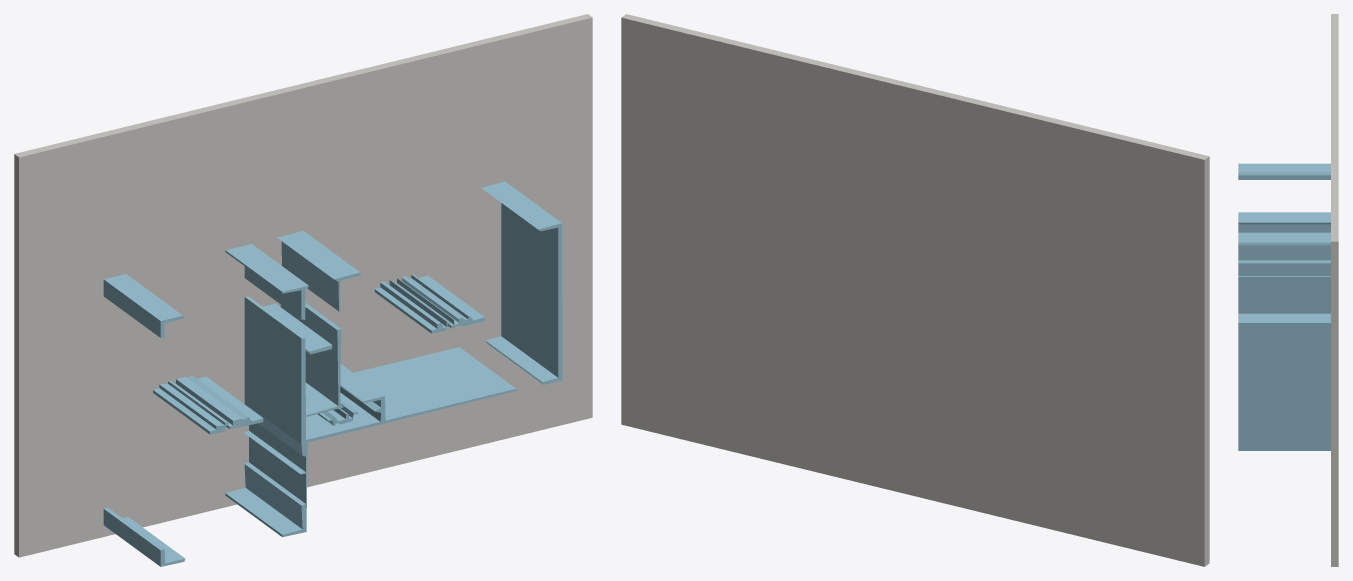
3 renders of one model, left to right at view 1: azimuth 30°, elevation 25°; view 2: azimuth 150°, elevation 25°; view 3: azimuth 270°, elevation 25°, orthographic. The views are drawn at different scales.
Parts seen in each view (by area): view 1: world; view 2: world; view 3: world.
Part boxes in pixels (x1,y1,x2,y2): world: (14, 14, 592, 566); world: (621, 14, 1209, 566); world: (1238, 14, 1338, 566).
Size of the model in its own units: 10.23 by 6.82 by 1.91.
